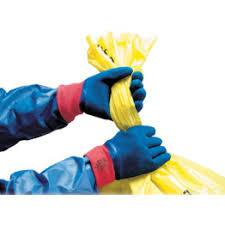gloves: (83, 125, 171, 190), (56, 66, 146, 123)
